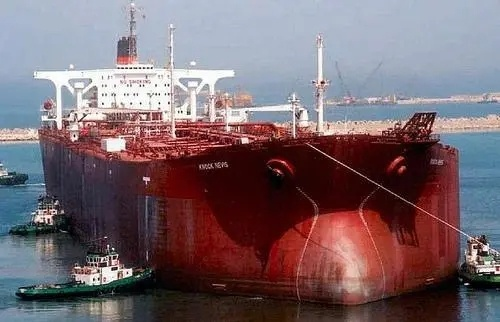Cargoship: (33, 1, 463, 304)
otherboat: (17, 241, 152, 298), (6, 191, 64, 235), (459, 232, 500, 292), (1, 162, 34, 185)
